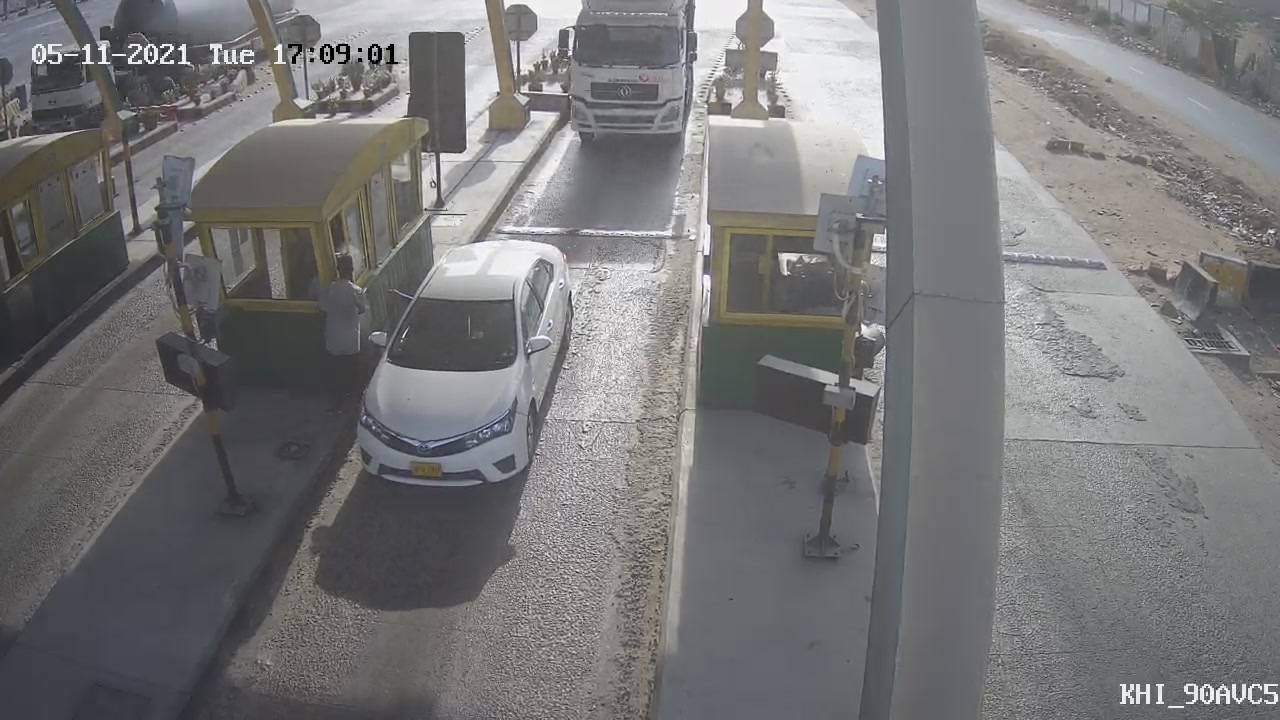F1: (335, 221, 591, 509)
